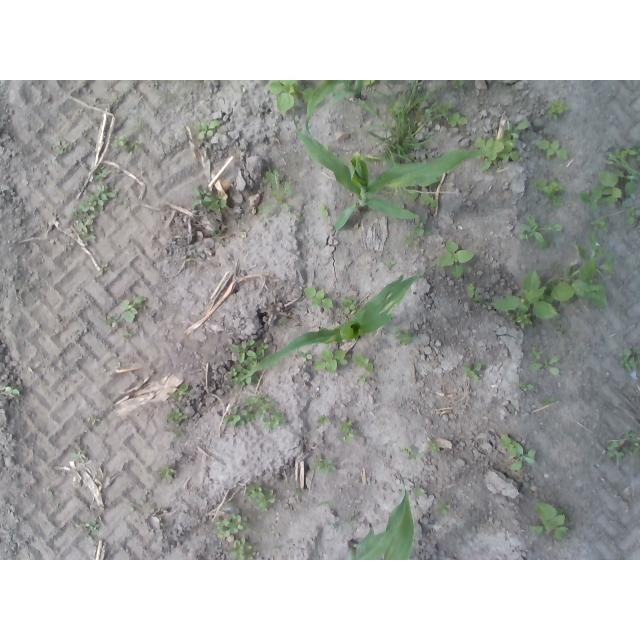Maize: (290, 106, 494, 229), (240, 263, 430, 382), (344, 469, 417, 560), (304, 80, 376, 138)
Weeds: (359, 83, 435, 173), (491, 270, 574, 329), (566, 230, 615, 309), (474, 121, 530, 172), (67, 185, 117, 242), (222, 390, 286, 431), (258, 171, 307, 222), (224, 339, 268, 388), (268, 81, 329, 116), (578, 169, 623, 211), (605, 145, 640, 198), (518, 216, 563, 250), (529, 504, 568, 541), (437, 241, 476, 277), (500, 433, 536, 471), (528, 347, 561, 377), (607, 432, 640, 462), (533, 177, 566, 207), (191, 184, 226, 212), (381, 185, 419, 210), (244, 483, 276, 512), (110, 125, 143, 153), (436, 101, 469, 128), (315, 348, 348, 372), (405, 218, 432, 246), (216, 512, 245, 538), (538, 139, 570, 162), (120, 297, 145, 324), (229, 536, 256, 560), (303, 288, 333, 309), (194, 120, 221, 140), (618, 345, 640, 369), (547, 99, 570, 121), (391, 326, 416, 346), (466, 282, 485, 306), (463, 359, 483, 381), (337, 420, 354, 444), (399, 446, 424, 462), (552, 322, 571, 342), (314, 458, 336, 474), (355, 353, 374, 371), (166, 408, 186, 424), (624, 206, 640, 226), (167, 384, 189, 398), (590, 216, 609, 232), (340, 297, 356, 314), (85, 521, 100, 536), (159, 467, 175, 481), (54, 139, 68, 155), (422, 193, 438, 207), (434, 502, 451, 515), (93, 167, 108, 181), (4, 385, 21, 397), (518, 380, 536, 391), (105, 314, 119, 327), (298, 350, 312, 362), (428, 442, 441, 454), (318, 205, 331, 216), (317, 415, 331, 425), (451, 80, 465, 89), (544, 396, 556, 406), (356, 373, 368, 383), (70, 452, 87, 459), (91, 415, 102, 425), (173, 430, 186, 438), (122, 332, 136, 339), (412, 488, 424, 496), (293, 488, 303, 497), (212, 229, 223, 237), (387, 260, 397, 268), (362, 80, 375, 85), (465, 185, 471, 191)
